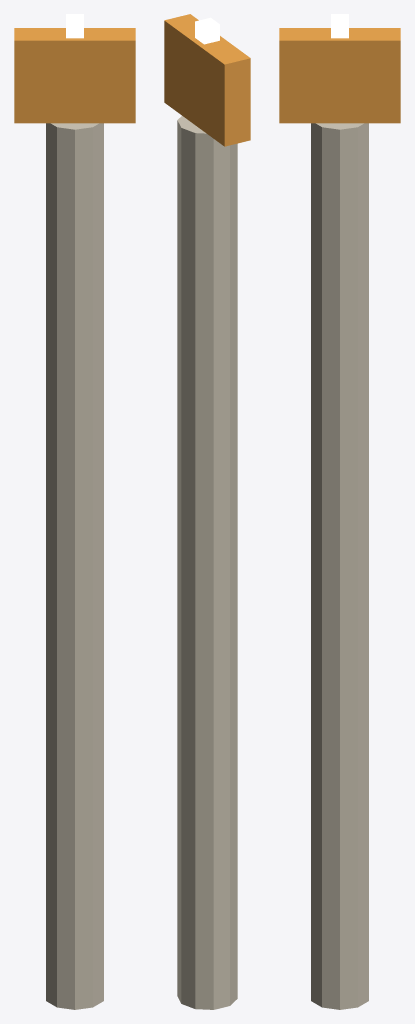
File: leading_light_2.glb
3 views of the same model, side by side, from view 1: azimuth 90°, elevation 25°; view 2: azimuth 210°, elevation 25°; view 3: azimuth 270°, elevation 25° (orthographic).
Visible parts, largest first — view 1: LOD0; view 2: LOD0; view 3: LOD0.
Boxes of the visible parts, left/top/right/bottom form: LOD0: left=14, top=14, right=135, bottom=1009; LOD0: left=164, top=14, right=250, bottom=1009; LOD0: left=279, top=14, right=400, bottom=1009.
Size of what is drawn, in the model's own units: 2 by 35.6 by 4.
